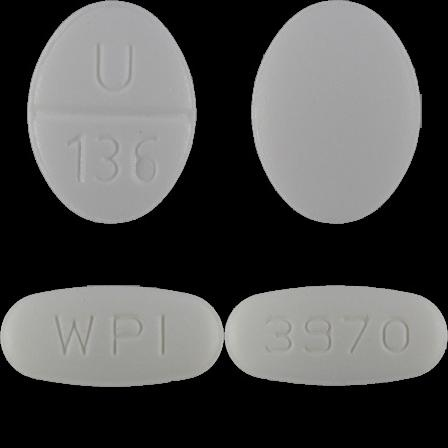68788-7380: (0, 0, 224, 224)
